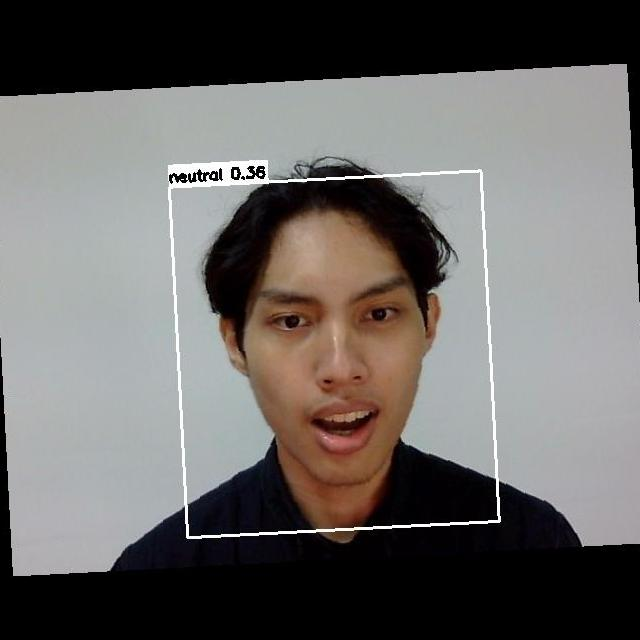Surprised: (235, 258, 439, 470)
